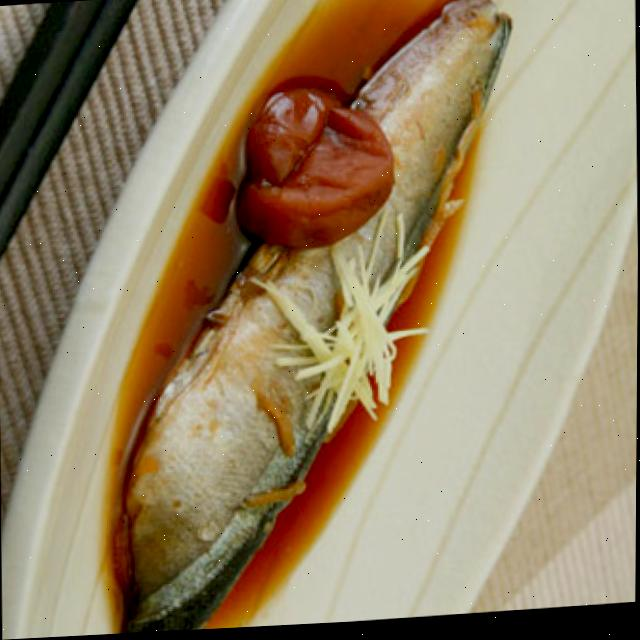熟制海鲜: (86, 0, 543, 636)
